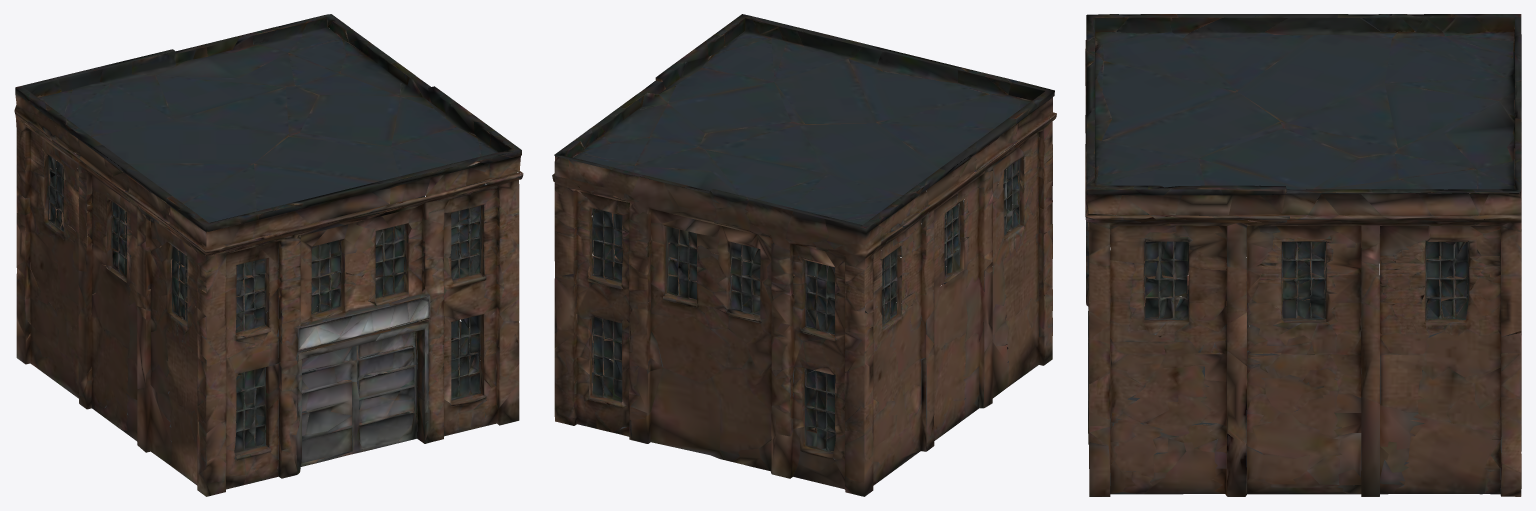
The model's file is shed-02-brick-industrial.far.glb.
3 views of the same model, side by side, from view 1: azimuth 30°, elevation 25°; view 2: azimuth 150°, elevation 25°; view 3: azimuth 270°, elevation 25° (orthographic). The views are drawn at different scales.
Parts seen in each view (by area): view 1: geometry_0; view 2: geometry_0; view 3: geometry_0.
Boxes of the visible parts, bbox=[...] form: geometry_0: bbox=[14, 14, 523, 496]; geometry_0: bbox=[552, 14, 1056, 496]; geometry_0: bbox=[1085, 14, 1521, 496].
Bounding box in the file's own units: 1.82 × 1.48 × 1.9.
1 material, 1 textured.
